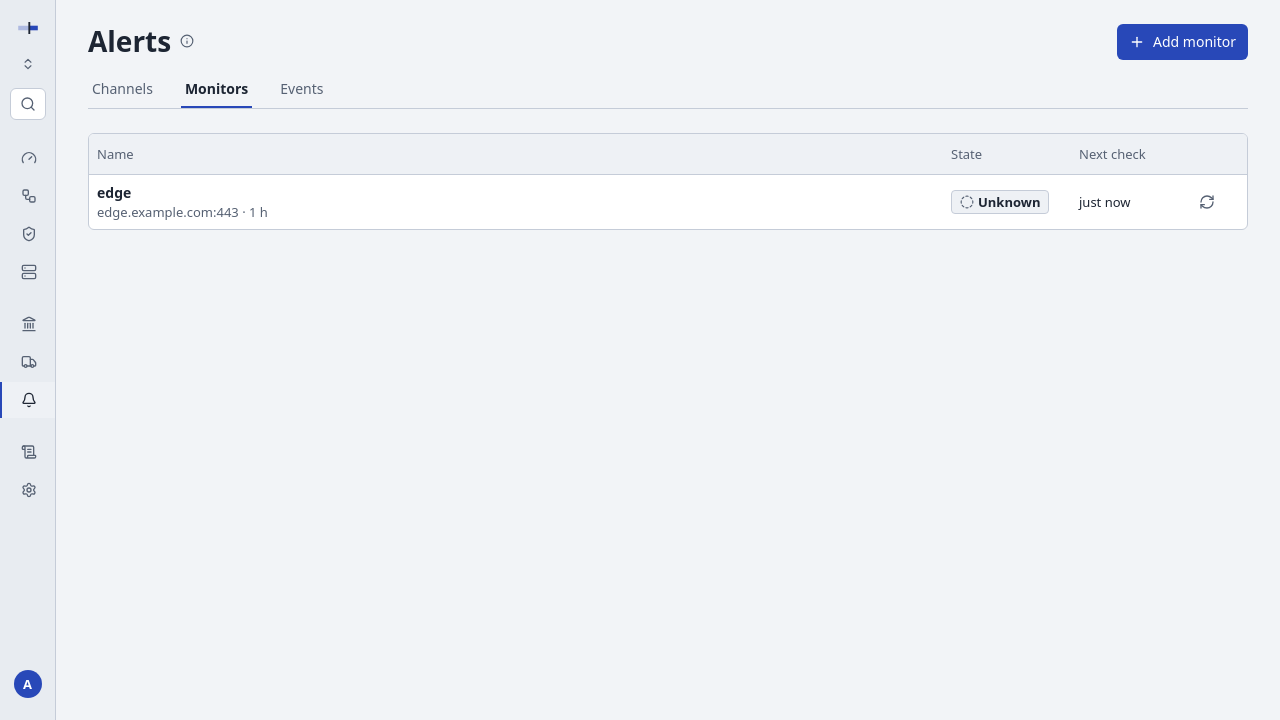
Test: check now updates row
The width and height of the screenshot is (1280, 720).
Expected: the text "Unknown" is shown, [951,190,1049,214]
Click the button named "Check edge now".
click(1207, 202)  # box [1191,186,1223,218]
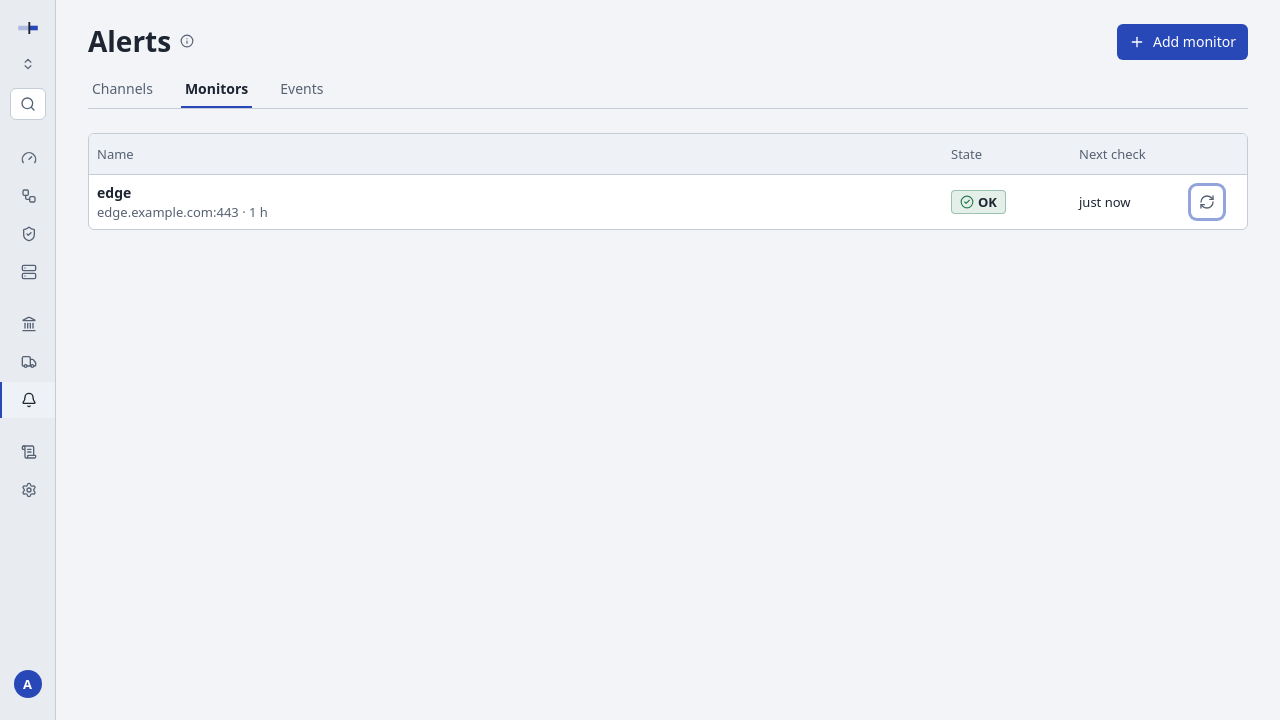
Result: the text "OK" is shown at [951,190,1006,214]
